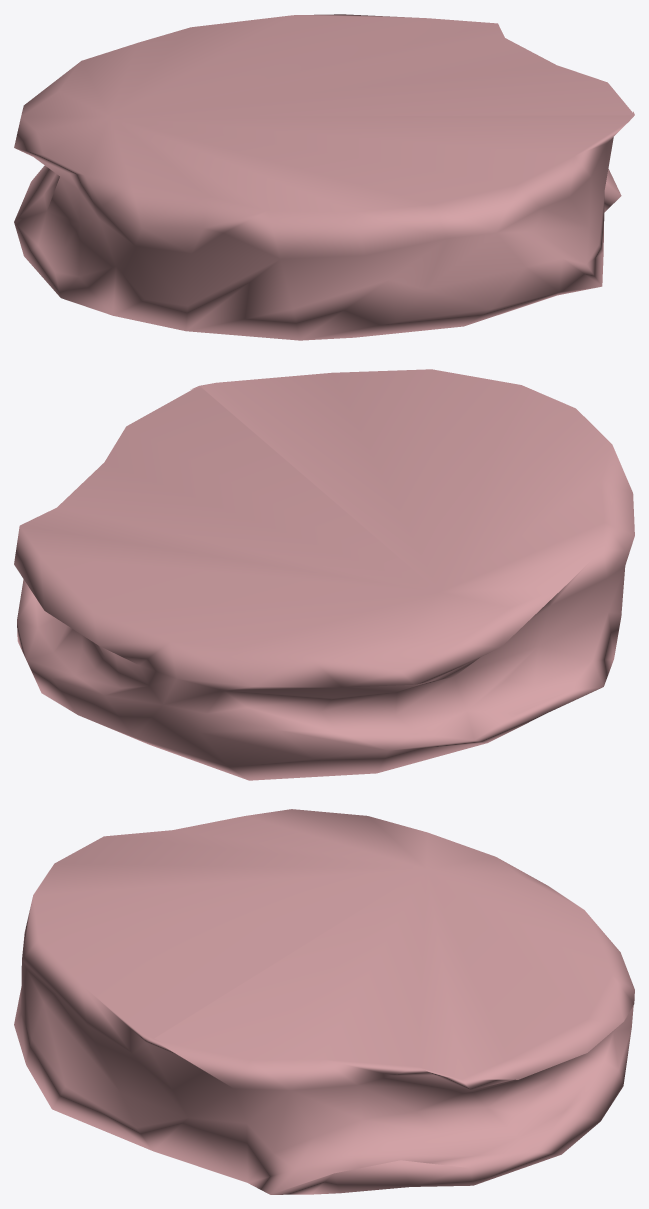
The model's file is fma75306_mm1065.glb.
The picture shows the model from 3 angles, top to bottom: view 1: azimuth 30°, elevation 25°; view 2: azimuth 150°, elevation 25°; view 3: azimuth 270°, elevation 25°; orthographic projection. The views are drawn at different scales.
Visible parts, largest first — view 1: FMA75306_MM1065; view 2: FMA75306_MM1065; view 3: FMA75306_MM1065.
Part boxes in pixels (box(x1,y1,x2,y2)): FMA75306_MM1065: box(14, 14, 634, 340); FMA75306_MM1065: box(14, 369, 634, 780); FMA75306_MM1065: box(14, 809, 634, 1194).
Size of the model in its own units: 0.041 by 0.0132 by 0.0415.
